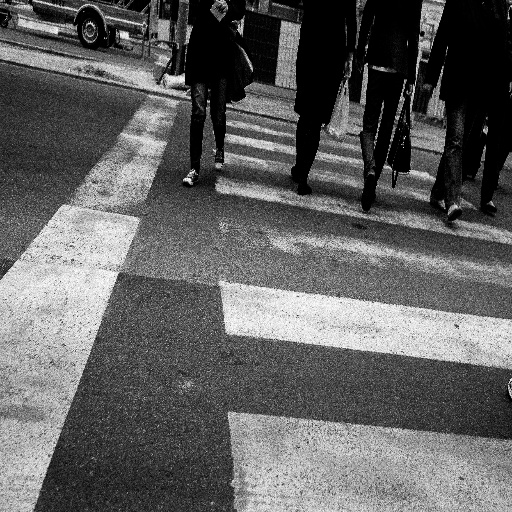hand: (353, 51, 365, 74), (212, 0, 229, 15), (341, 59, 352, 80), (420, 83, 431, 94), (403, 81, 411, 96)
